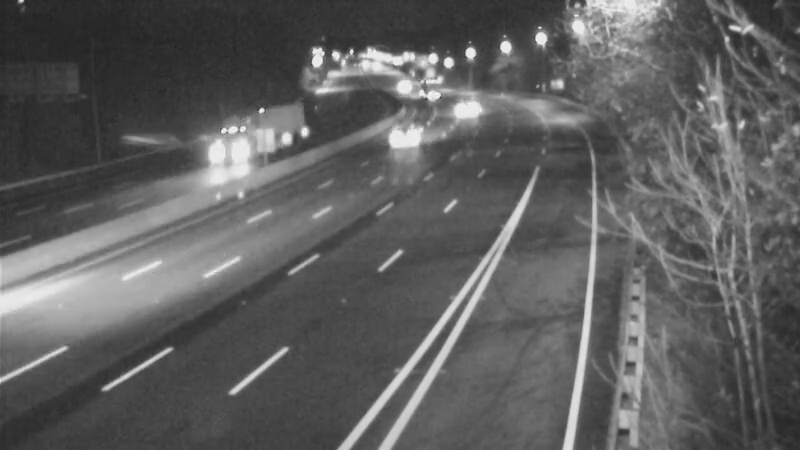vehicle: (375, 60, 425, 110), (403, 63, 453, 113), (438, 85, 488, 135), (378, 107, 428, 157), (194, 124, 244, 174)
